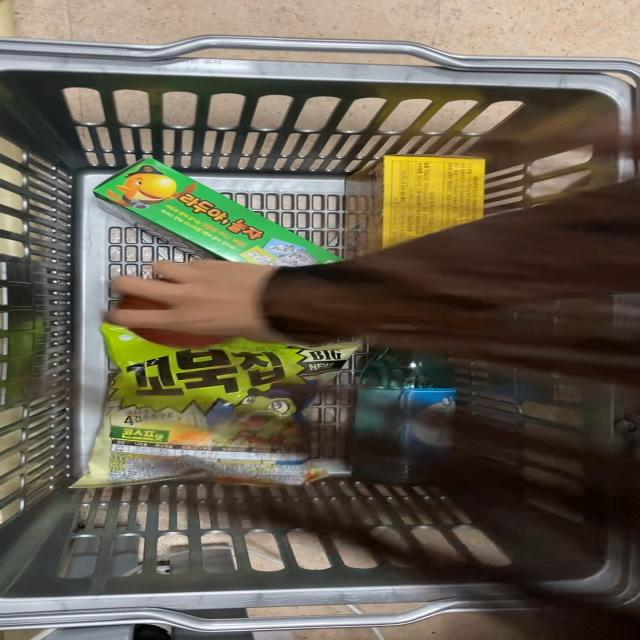ggobukchip: (126, 348, 337, 493)
goraebob: (105, 151, 294, 250)
jinro: (345, 338, 483, 489)
minicrab: (351, 152, 499, 234)
